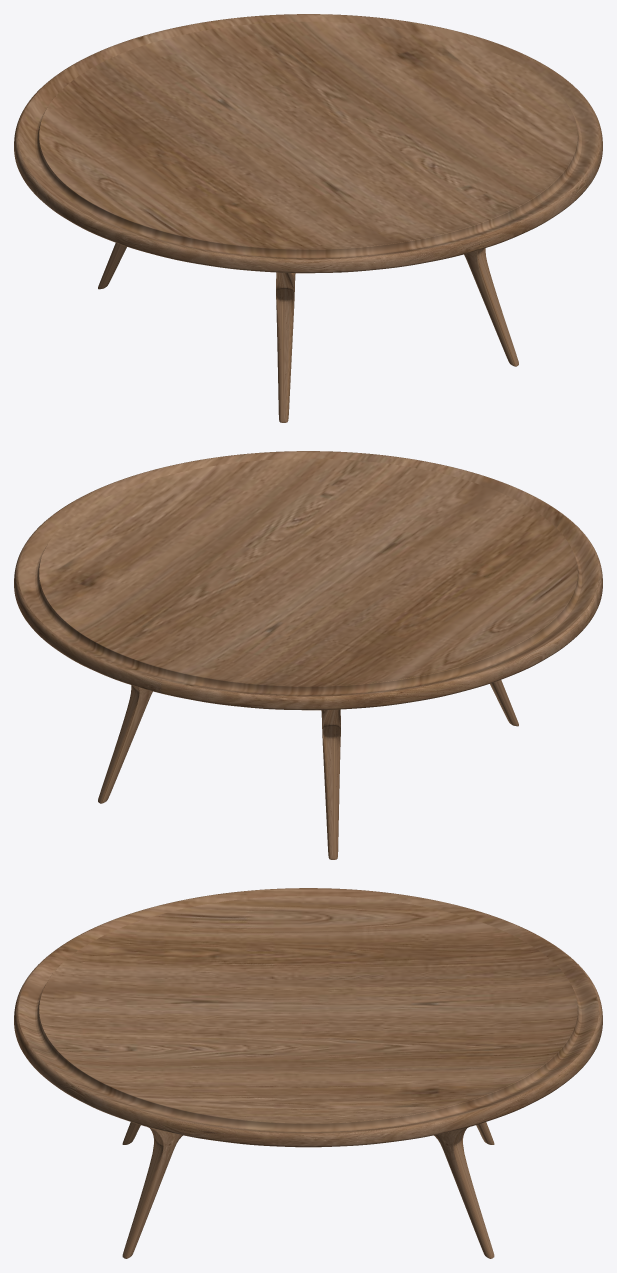
The model's file is cute_coffee_wood.glb.
3 views of the same model, one above another, from view 1: azimuth 30°, elevation 25°; view 2: azimuth 150°, elevation 25°; view 3: azimuth 270°, elevation 25° (orthographic).
Parts seen in each view (by area): view 1: Cylinder.002, Cylinder.006, Cylinder.005; view 2: Cylinder.002, Cylinder.004, Cylinder.003; view 3: Cylinder.002, Cylinder.003, Cylinder.005.
Part boxes in pixels (x1,y1,x2,y2): Cylinder.002: (14,14,602,273); Cylinder.006: (276,272,295,422); Cylinder.005: (464,248,518,366); Cylinder.002: (14,451,602,710); Cylinder.004: (321,709,340,859); Cylinder.003: (98,685,152,803); Cylinder.002: (14,888,602,1147); Cylinder.003: (434,1127,494,1258); Cylinder.005: (122,1127,182,1258).
Size of the model in its own units: 3.23 by 1.16 by 3.23.
1 material, 1 textured.
